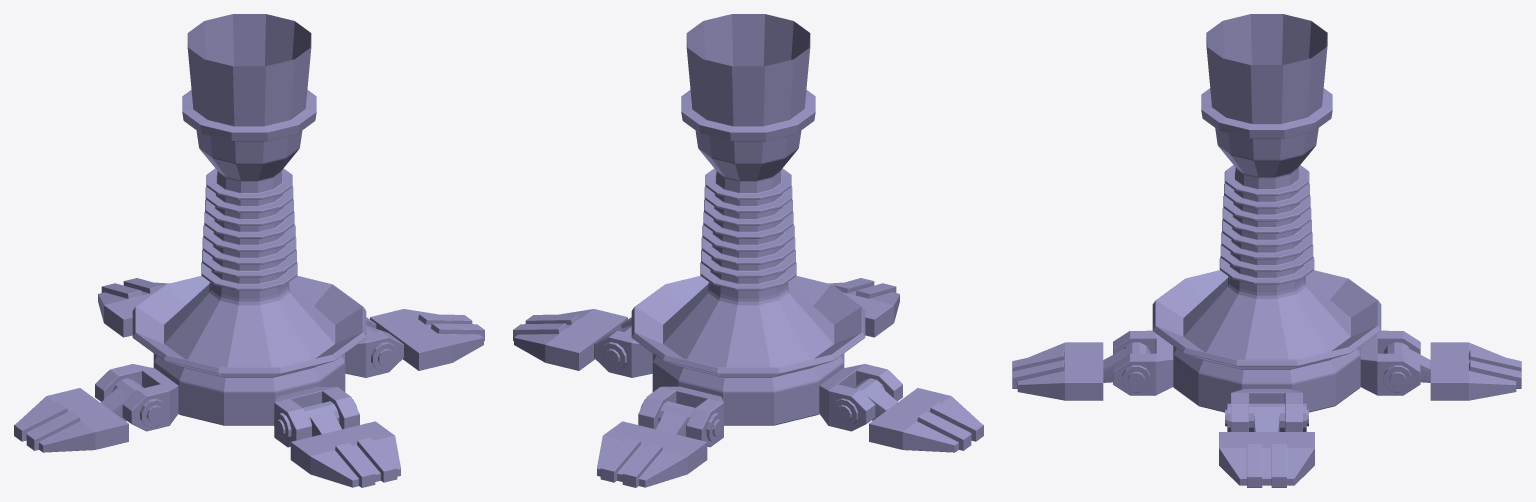
The model's file is SolarBottom.fbx.
3 views of the same model, side by side, from view 1: azimuth 30°, elevation 25°; view 2: azimuth 150°, elevation 25°; view 3: azimuth 270°, elevation 25° (orthographic). The views are drawn at different scales.
Parts seen in each view (by area): view 1: MainBody1, Toe6, Toe4, Toe7, Frame4, Frame5, Toe5, Frame6, Joint8, Joint5, Joint6; view 2: MainBody1, Toe5, Toe4, Toe7, Frame4, Frame8, Toe6, Frame6, Joint4, Joint8, Joint6; view 3: MainBody1, Toe7, Toe6, Toe5, Frame5, Frame8, Frame6, Joint6, Joint4, Joint5.
Boxes of the visible parts, x1,y1,x2,y2 form: MainBody1: [132, 14, 366, 425]; Toe6: [290, 421, 400, 487]; Toe4: [14, 388, 128, 452]; Toe7: [370, 309, 484, 370]; Frame4: [95, 364, 178, 431]; Frame5: [274, 386, 359, 447]; Toe5: [98, 278, 169, 337]; Frame6: [345, 317, 403, 377]; Joint8: [101, 378, 166, 427]; Joint5: [274, 399, 357, 442]; Joint6: [366, 325, 397, 370]; MainBody1: [631, 14, 865, 425]; Toe5: [597, 421, 707, 487]; Toe4: [869, 388, 983, 452]; Toe7: [513, 309, 627, 370]; Frame4: [819, 364, 902, 431]; Frame8: [638, 386, 723, 447]; Toe6: [828, 278, 899, 337]; Frame6: [594, 317, 652, 377]; Joint4: [640, 399, 723, 442]; Joint8: [832, 378, 897, 426]; Joint6: [600, 325, 631, 370]; MainBody1: [1152, 14, 1381, 412]; Toe7: [1219, 432, 1314, 487]; Toe6: [1012, 342, 1103, 400]; Toe5: [1430, 342, 1521, 400]; Frame5: [1113, 330, 1173, 395]; Frame8: [1360, 330, 1420, 395]; Frame6: [1231, 389, 1302, 431]; Joint6: [1225, 403, 1308, 431]; Joint4: [1383, 342, 1430, 392]; Joint5: [1103, 342, 1150, 392].
Size of the model in its own units: 20.62 by 15.24 by 20.62.
